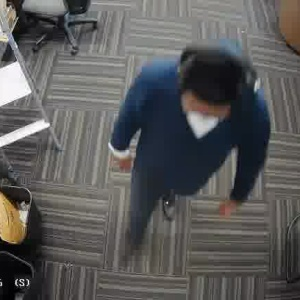person: (110, 33, 263, 252)
